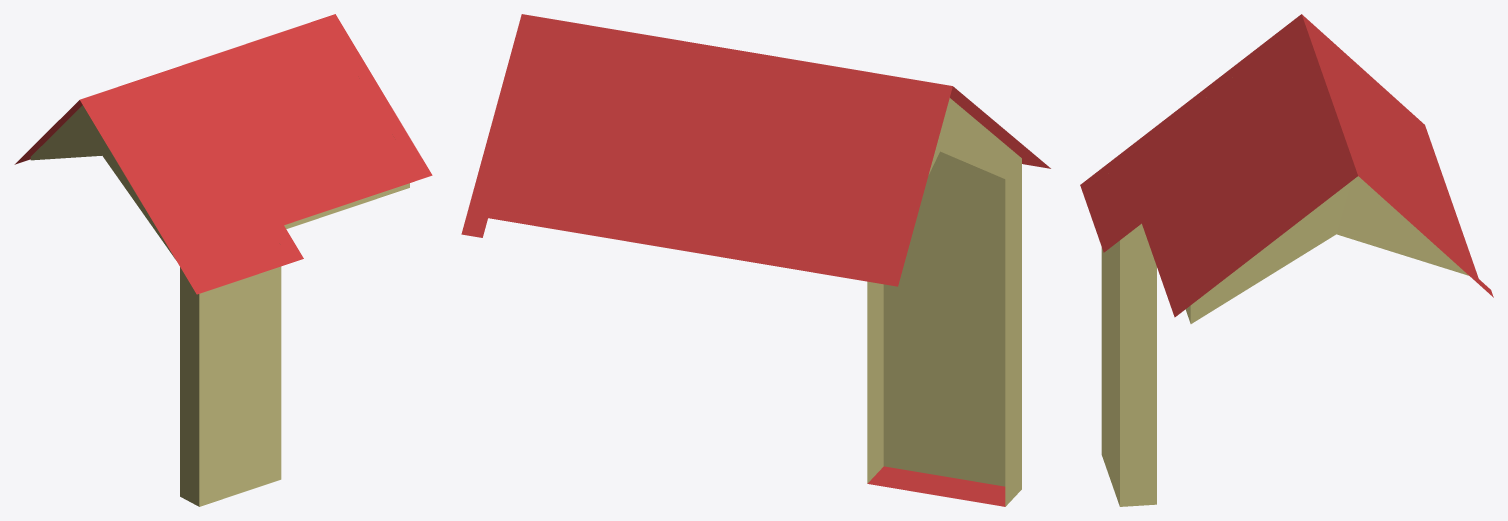
3 views of the same model, side by side, from view 1: azimuth 30°, elevation 25°; view 2: azimuth 150°, elevation 25°; view 3: azimuth 270°, elevation 25° (orthographic). The views are drawn at different scales.
Size of the model in its own units: 11.21 by 10.82 by 12.13.
